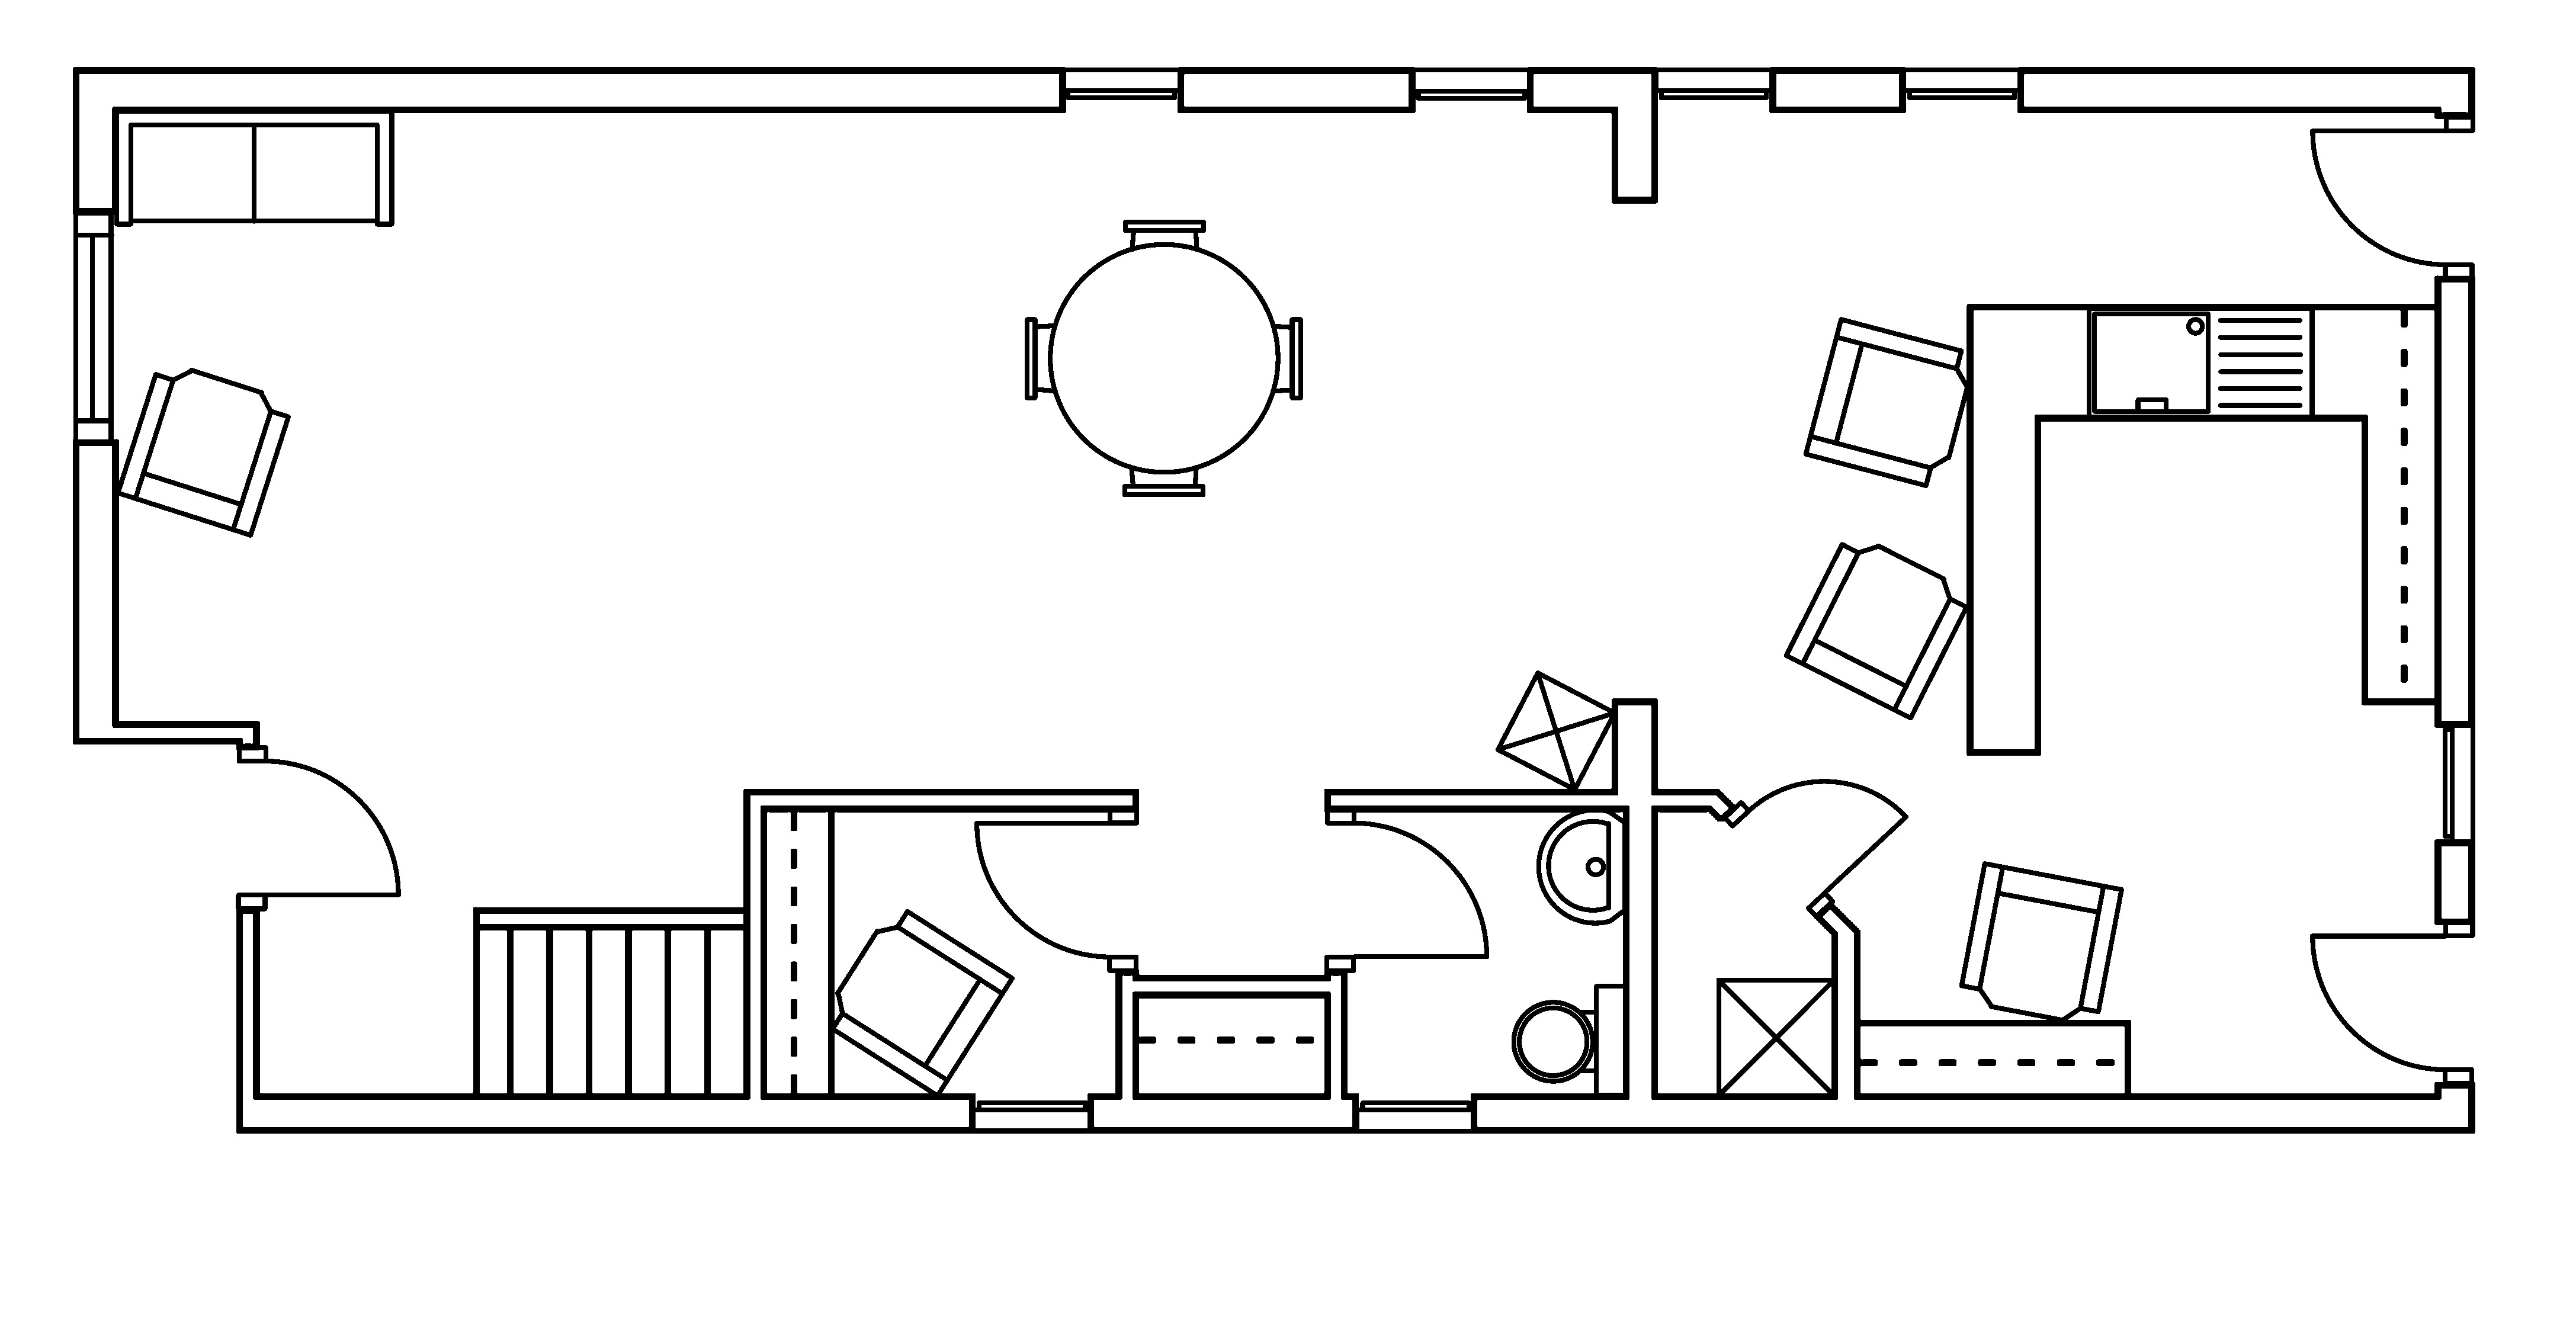armchair: (829, 908, 1014, 1099), (1782, 540, 1969, 720), (114, 367, 291, 538), (1803, 316, 1971, 488), (1957, 860, 2124, 1023)
coffee_table: (1493, 670, 1618, 792), (1715, 976, 1836, 1099)
large_sink: (1512, 983, 1628, 1097)
large_sofa: (113, 108, 395, 227)
round_table: (1024, 219, 1303, 496)
sink: (2085, 305, 2314, 421)
small_sink: (1535, 808, 1628, 925)
